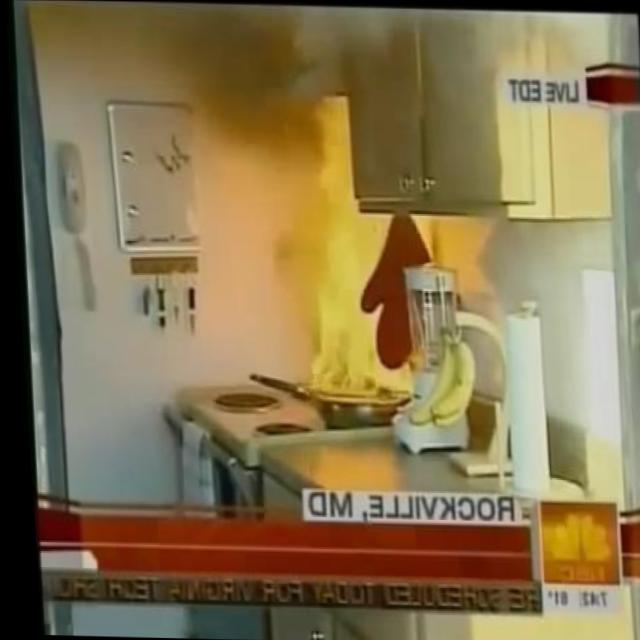fire: (231, 90, 446, 404)
